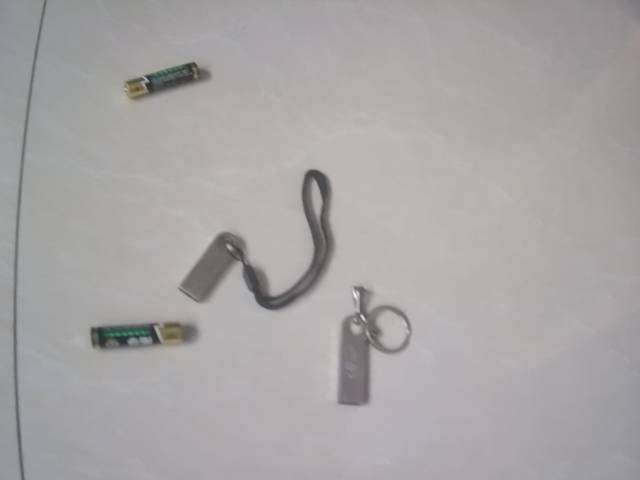U-disk: (174, 224, 307, 312), (332, 282, 417, 411)
battery: (86, 319, 192, 353), (121, 60, 203, 101)
